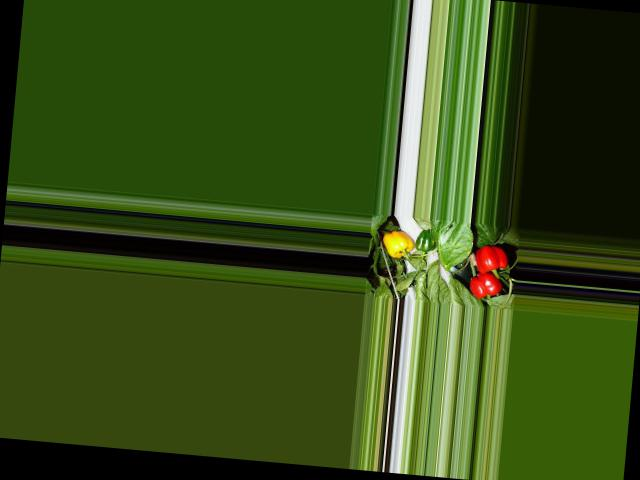bell_pepper: (378, 226, 416, 260)
